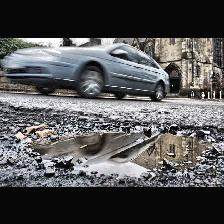pothole: (22, 116, 221, 180)
